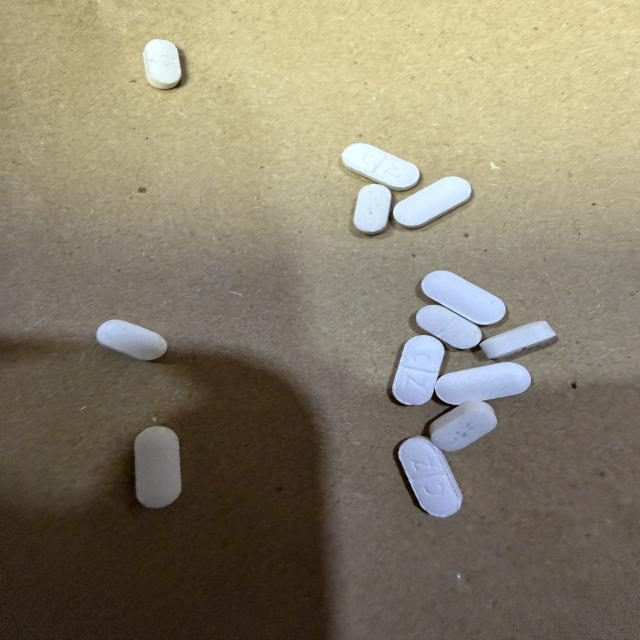pill: (399, 436, 462, 517), (422, 271, 505, 324), (394, 177, 471, 228), (435, 363, 530, 404), (135, 426, 181, 508), (342, 143, 419, 190), (393, 336, 444, 405), (430, 401, 496, 451), (416, 305, 481, 349), (97, 320, 167, 360), (480, 321, 555, 358), (354, 184, 391, 234), (144, 40, 181, 89)
